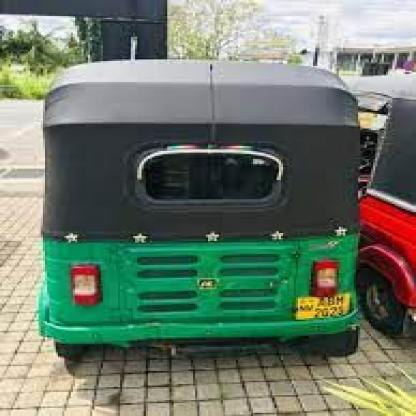number plate: (309, 292, 352, 322)
three wheeler back: (34, 59, 365, 365)
